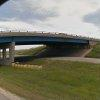Bridge: (2, 21, 92, 61)
